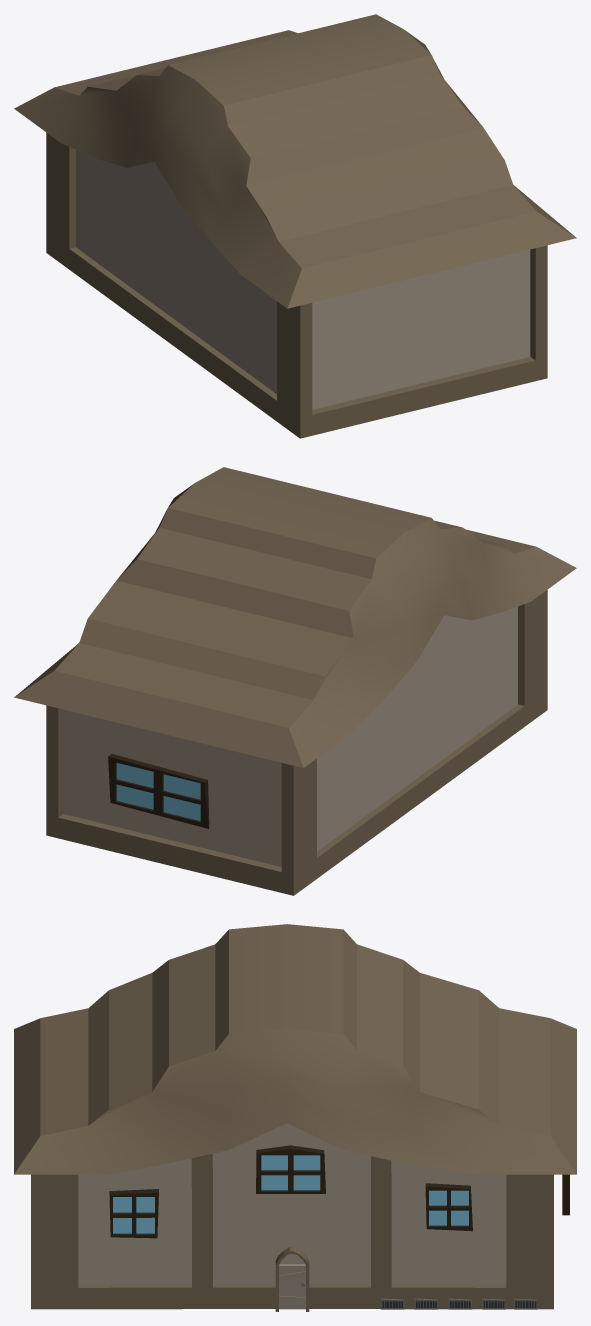
Rendered from mayor house.fbx.
3 views of the same model, one above another, from view 1: azimuth 30°, elevation 25°; view 2: azimuth 150°, elevation 25°; view 3: azimuth 270°, elevation 25° (orthographic). The views are drawn at different scales.
Parts seen in each view (by area): view 1: pCube72; view 2: pCube72; view 3: pCube72.
Part boxes in pixels (<box>): pCube72: <box>14,14,576,438</box>; pCube72: <box>14,467,576,895</box>; pCube72: <box>14,924,576,1311</box>.
Bounding box in the file's own units: 20.48 × 17.84 × 33.47.
Materials: 6 (3 with a texture image).
